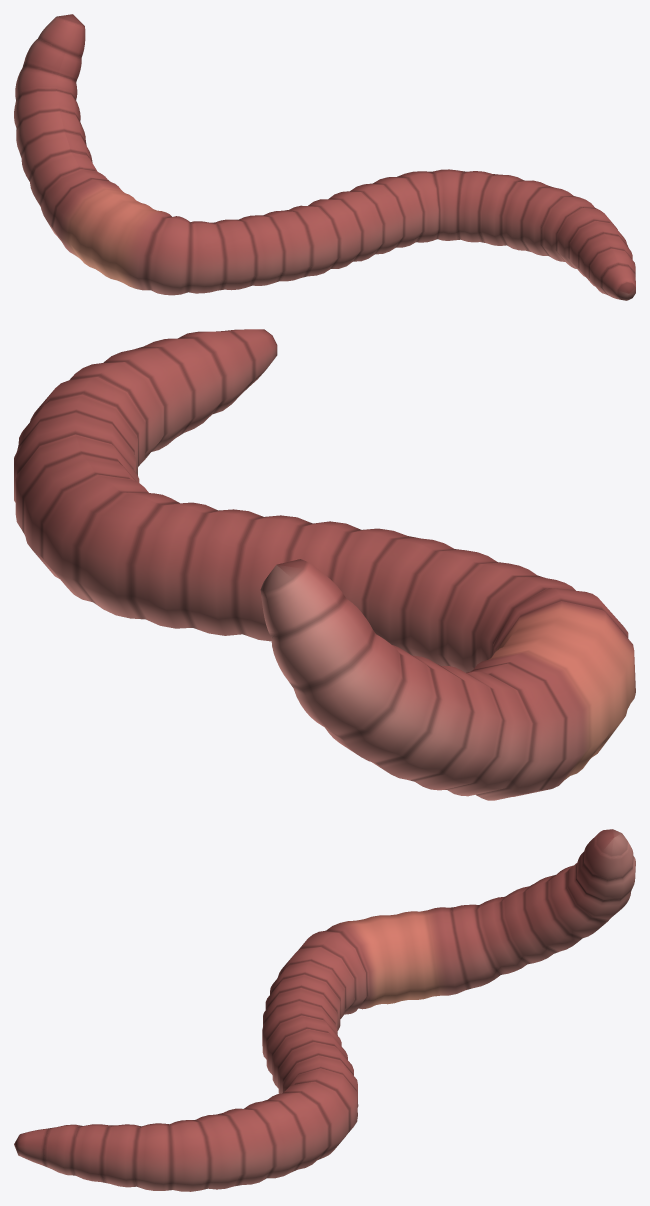
File: Earthworm.glb
3 renders of one model, top to bottom at view 1: azimuth 30°, elevation 25°; view 2: azimuth 150°, elevation 25°; view 3: azimuth 270°, elevation 25°, orthographic. The views are drawn at different scales.
Visible parts, largest first — view 1: Earthworm; view 2: Earthworm; view 3: Earthworm.
Boxes of the visible parts, x1=… form: Earthworm: x1=14, y1=14, x2=635, y2=300; Earthworm: x1=14, y1=329, x2=635, y2=800; Earthworm: x1=14, y1=829, x2=635, y2=1191.
Size of the model in its own units: 0.5564 by 0.2267 by 0.6528.
1 material, 1 textured.
